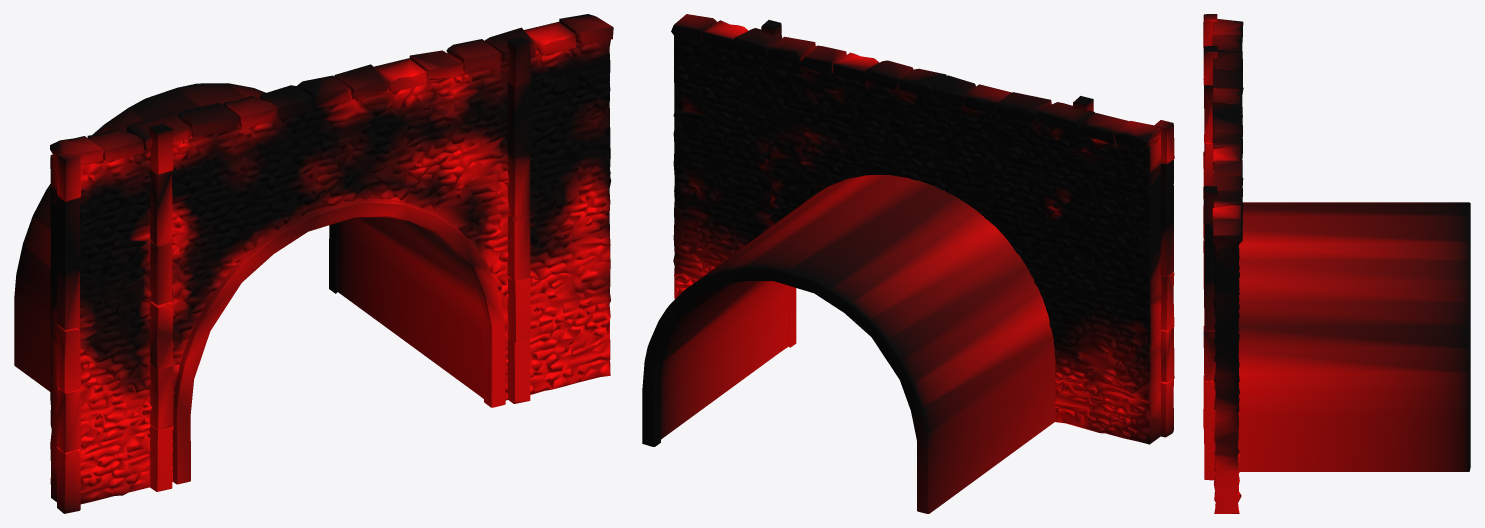
File: SM_ArchWall_01.FBX
3 renders of one model, left to right at view 1: azimuth 30°, elevation 25°; view 2: azimuth 150°, elevation 25°; view 3: azimuth 270°, elevation 25°, orthographic. The views are drawn at different scales.
Visible parts, largest first — view 1: SM_ArchWall_01_LOD0; view 2: SM_ArchWall_01_LOD0; view 3: SM_ArchWall_01_LOD0.
Boxes of the visible parts, <box> form: SM_ArchWall_01_LOD0: <box>14,14,613,513</box>; SM_ArchWall_01_LOD0: <box>642,14,1174,513</box>; SM_ArchWall_01_LOD0: <box>1203,14,1470,513</box>.
Size of what is drawn, in the model's own units: 2033 by 1060 by 1265.
